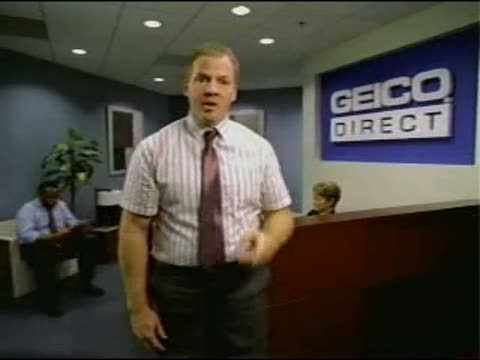geico: (325, 76, 452, 114)
